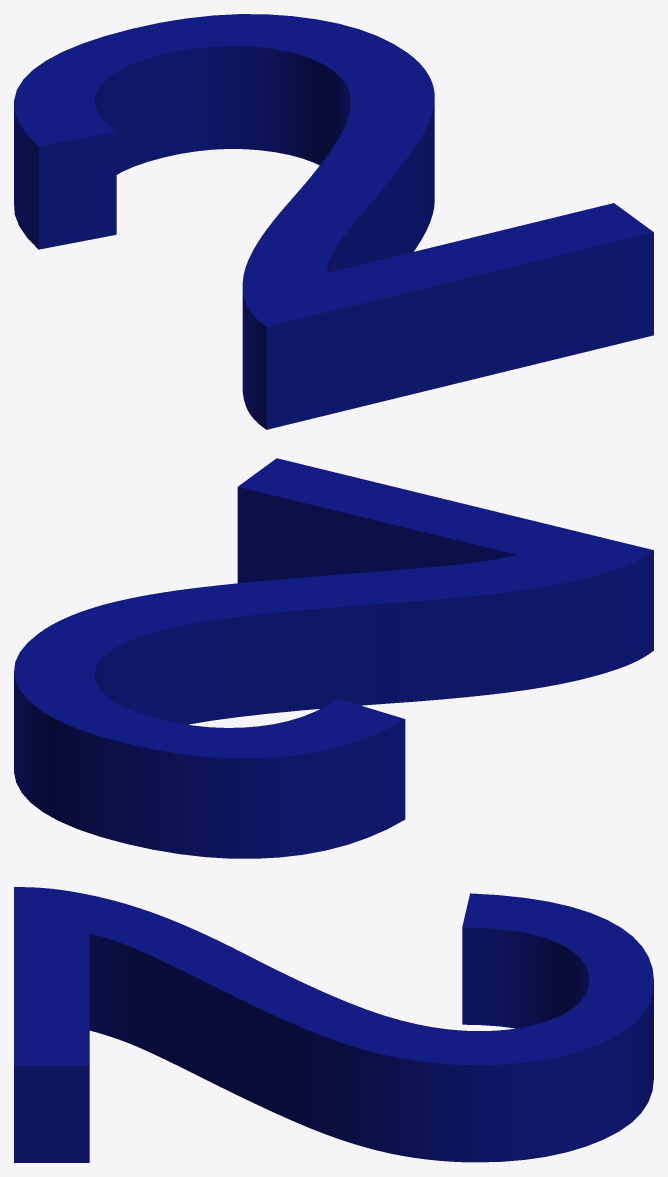
3 views of the same model, one above another, from view 1: azimuth 30°, elevation 25°; view 2: azimuth 150°, elevation 25°; view 3: azimuth 270°, elevation 25° (orthographic). The views are drawn at different scales.
Parts seen in each view (by area): view 1: TextPlus071; view 2: TextPlus071; view 3: TextPlus071.
Boxes of the visible parts, x1,y1,x2,y2 form: TextPlus071: [14, 14, 653, 429]; TextPlus071: [14, 458, 653, 858]; TextPlus071: [14, 887, 653, 1162].
Size of the model in its own units: 17 by 4.32 by 25.76.
